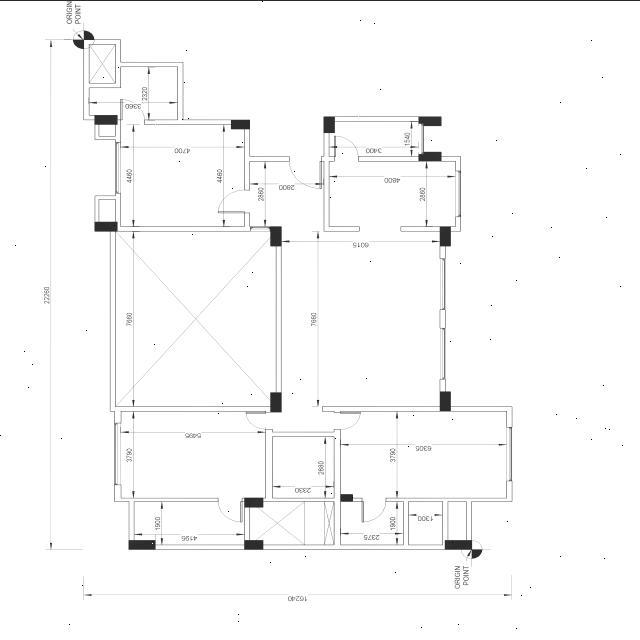Column: (128, 539, 156, 549), (444, 539, 472, 549), (418, 150, 442, 160), (418, 116, 442, 126), (270, 392, 282, 412), (270, 226, 282, 246), (94, 220, 118, 230), (94, 114, 118, 124), (440, 390, 451, 410), (440, 226, 451, 246), (244, 539, 264, 549), (244, 496, 264, 506), (323, 116, 335, 132), (231, 118, 250, 128), (340, 493, 353, 501)
Door: (290, 156, 322, 188), (218, 188, 250, 212), (216, 497, 244, 521), (334, 134, 358, 160), (120, 98, 144, 124), (362, 497, 386, 521), (334, 411, 361, 429), (245, 411, 272, 428)
Window: (114, 422, 121, 484), (440, 326, 446, 378), (440, 257, 446, 309), (115, 141, 121, 193), (455, 170, 461, 216), (507, 426, 512, 480), (250, 226, 270, 230), (421, 125, 424, 151)
